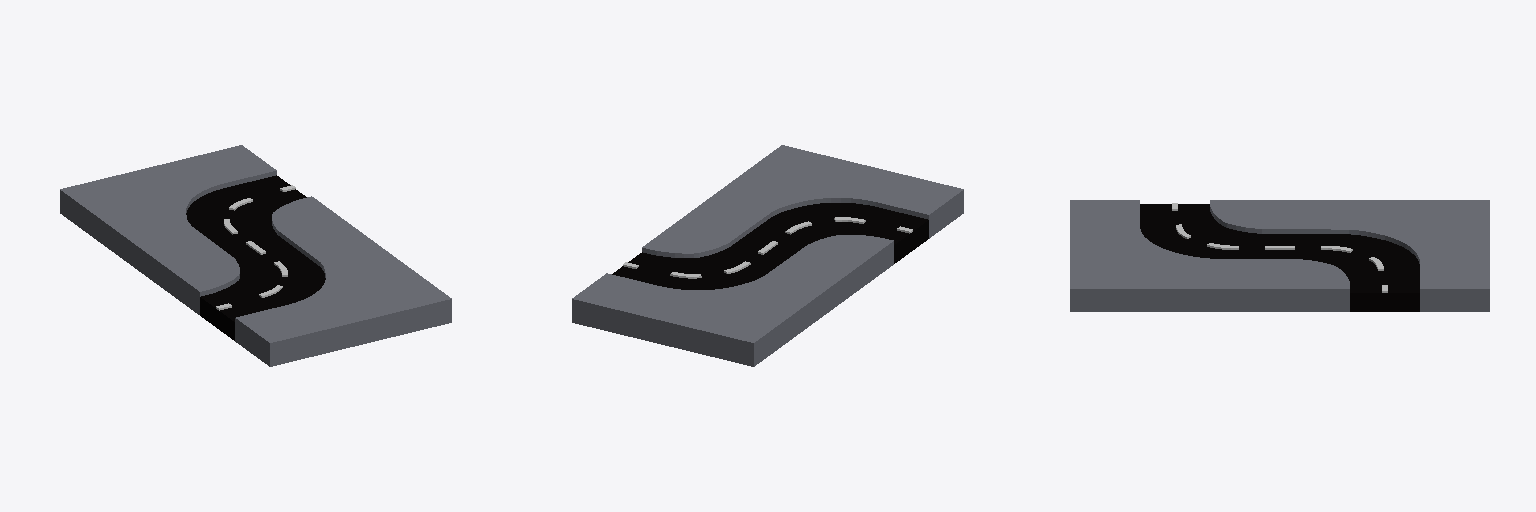
File: Street_Curve_Curve_Up.obj
3 renders of one model, left to right at view 1: azimuth 30°, elevation 25°; view 2: azimuth 150°, elevation 25°; view 3: azimuth 270°, elevation 25°, orthographic.
Visible parts, largest first — view 1: Street_Curve.001_Cube.004, Street_Curve_Cube.001; view 2: Street_Curve_Cube.001, Street_Curve.001_Cube.004; view 3: Street_Curve_Cube.001, Street_Curve.001_Cube.004.
Part boxes in pixels (x1,y1,x2,y2): Street_Curve.001_Cube.004: (165,222,451,366); Street_Curve_Cube.001: (60,145,346,289); Street_Curve_Cube.001: (572,222,858,366); Street_Curve.001_Cube.004: (677,145,963,289); Street_Curve_Cube.001: (1280,200,1489,311); Street_Curve.001_Cube.004: (1070,200,1279,311).
Bounding box in the file's own units: 2 × 0.25 × 4.